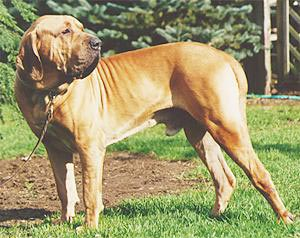fila_brasileiro: (12, 15, 292, 230)
